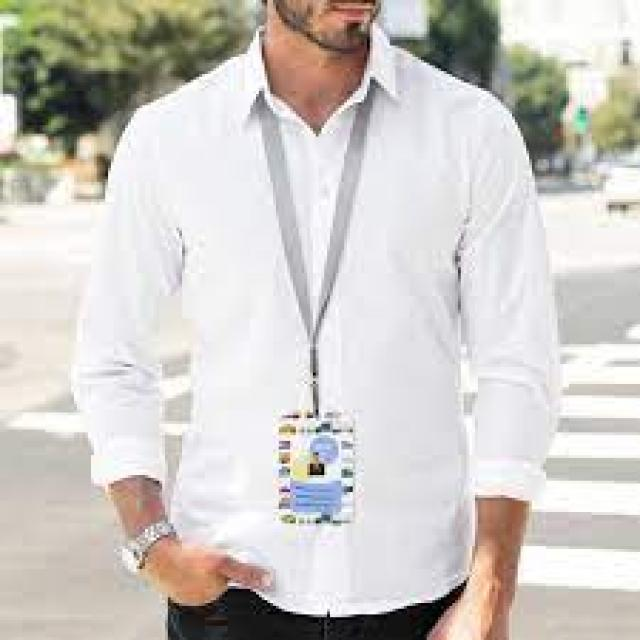id_card: (245, 95, 388, 532)
